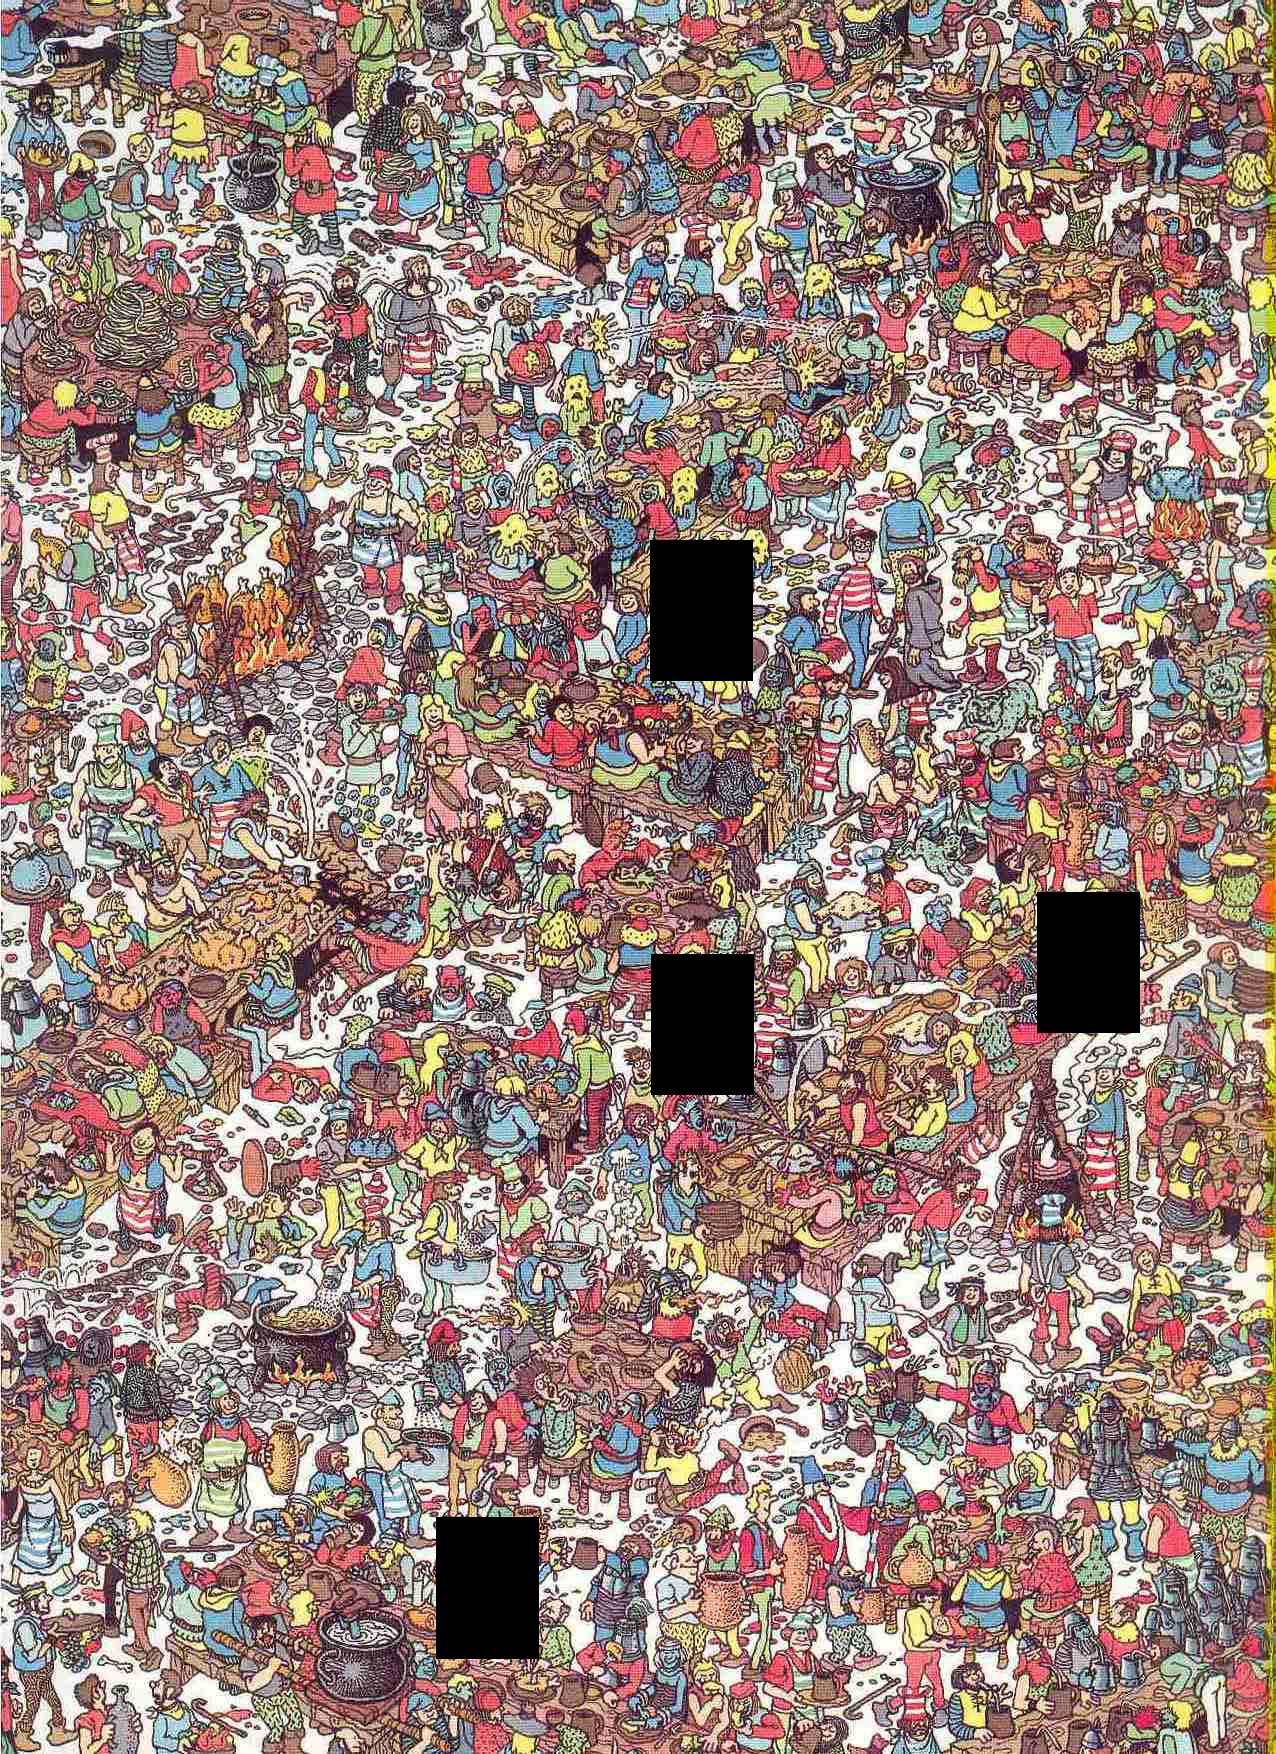waldo: (846, 517, 878, 562)
